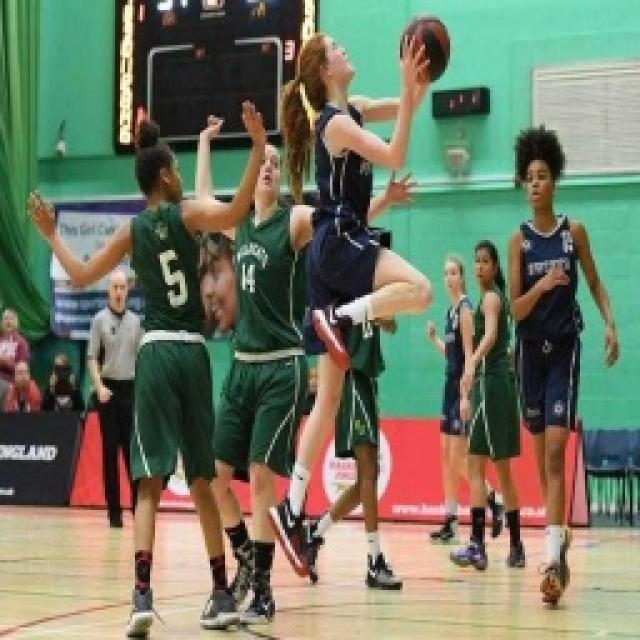basketball: (397, 10, 450, 89)
